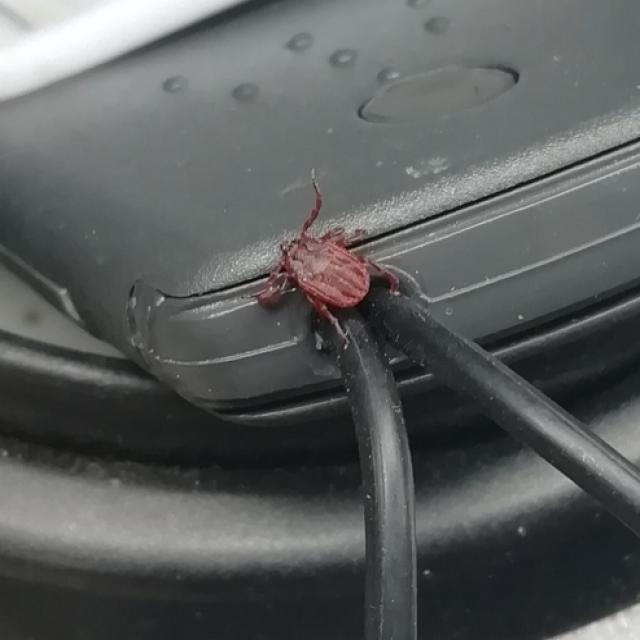Rhipicephalus Sanguineus-F: (255, 168, 417, 333)
